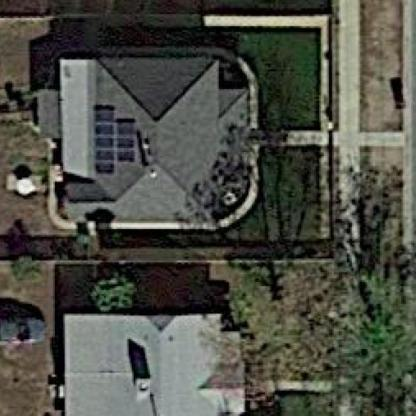car: (1, 310, 54, 348)
solar_panel: (85, 97, 140, 177)
